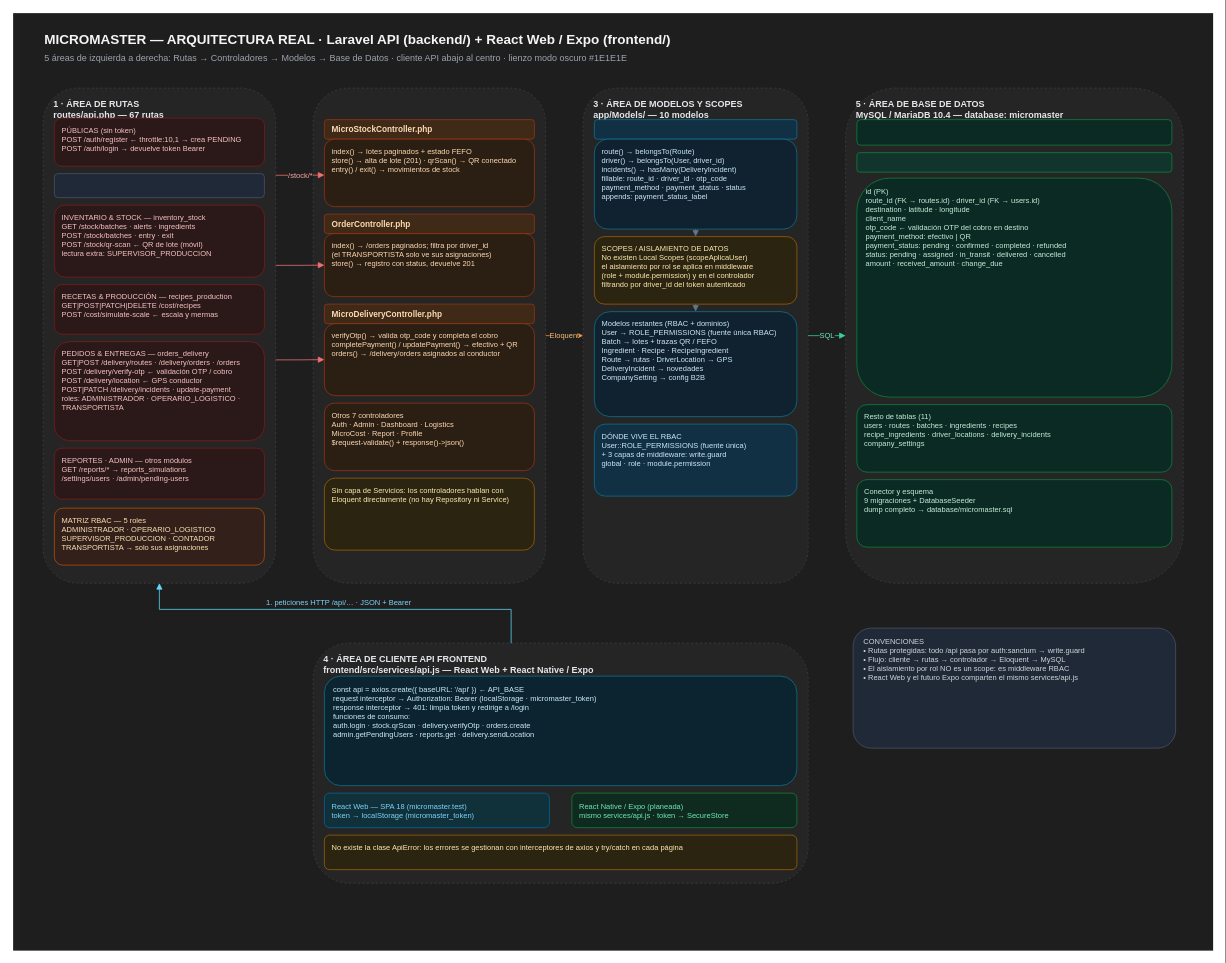
Image size: 1226x963. Some labels were removed from this diagram. Each missing label, with the box of its shape:
2 · ÁREA DE CONTROLADORES app/Http/Controllers/ — 10 archivos: (312, 87, 546, 583)
Eloquent ORM → driver de conexión (config/database.php): (856, 119, 1172, 145)
Order.php — orden de entrega: (594, 119, 797, 139)
orders — entidad de orden de entrega: (856, 152, 1172, 172)
Pipeline: auth:sanctum → write.guard (todo /api): (54, 173, 264, 198)
